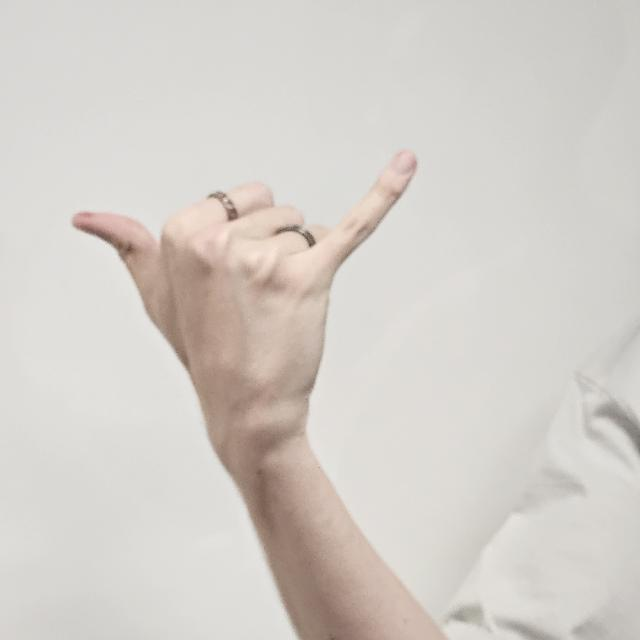Direita: (61, 135, 448, 498)
